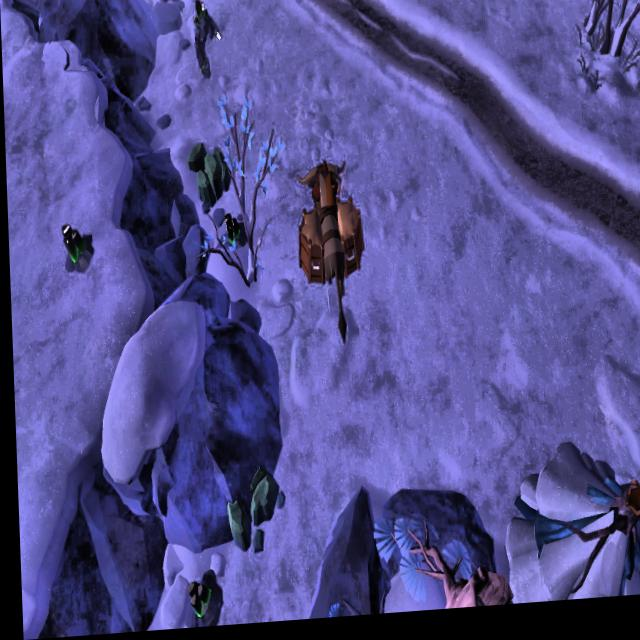ore_t3: (58, 222, 86, 270), (184, 578, 206, 621), (222, 214, 240, 250)
rock_t3: (218, 463, 287, 564), (187, 132, 234, 208)
